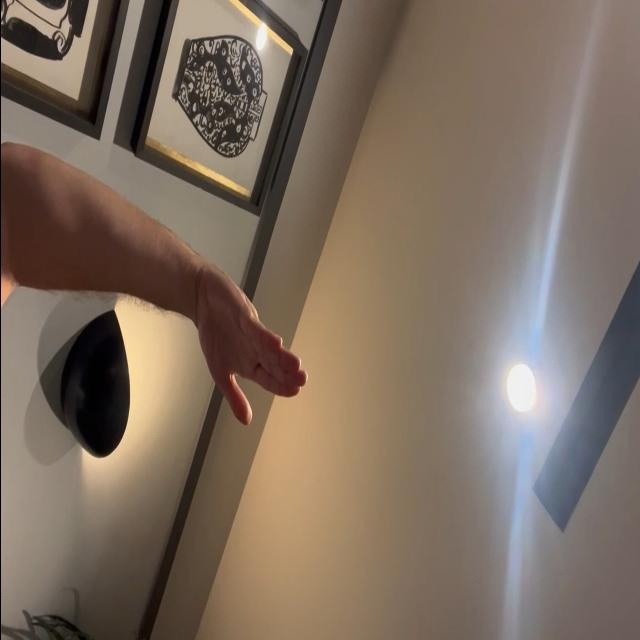Paper: (193, 262, 309, 430)
